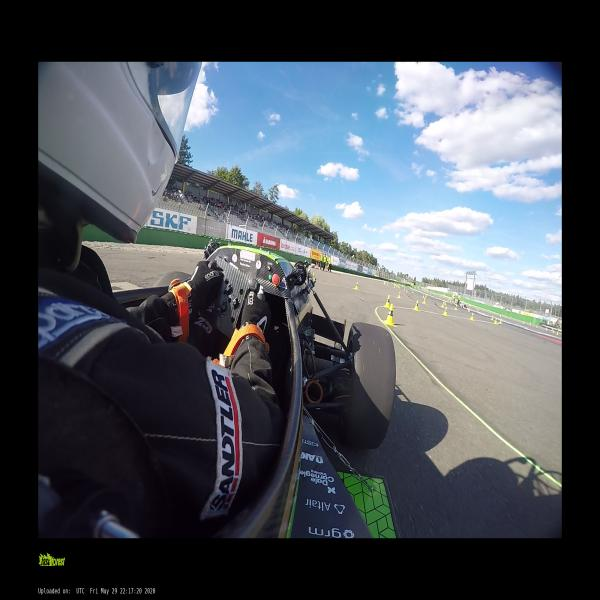yellow_cone: (384, 304, 395, 326), (413, 300, 419, 311), (385, 295, 390, 308), (442, 307, 448, 316), (353, 281, 358, 289), (397, 291, 401, 299), (470, 312, 474, 320), (441, 300, 446, 305), (441, 301, 445, 307), (494, 318, 497, 325), (454, 305, 457, 310), (424, 298, 426, 304)
